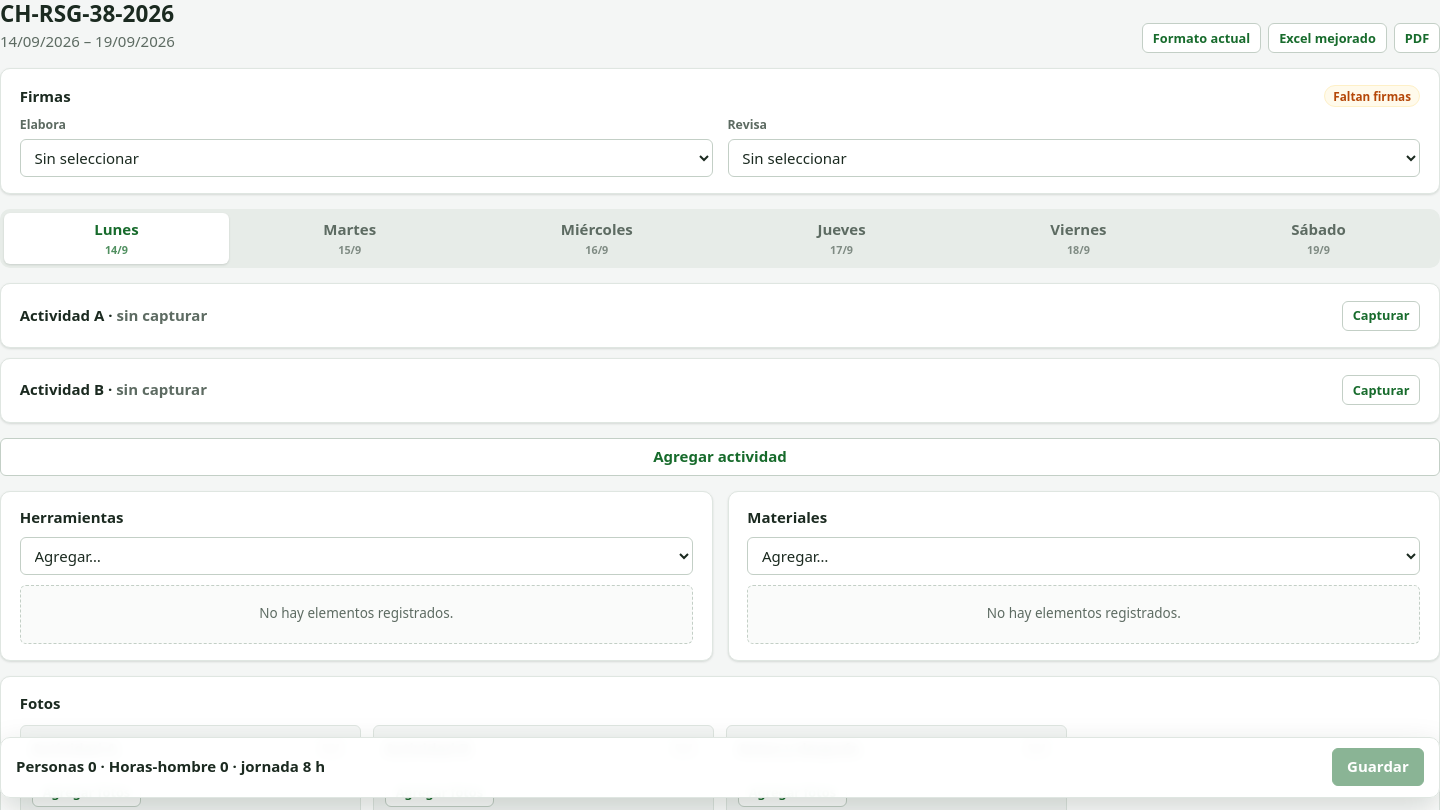
it: no permite quitar B y quita C cuando está vacía
expect the text "Actividad B · sin capturar" is shown: met, box [20, 379, 207, 401]
expect the button "Quitar" is not shown: met
Step 1. Click the button "Agregar actividad" → [720, 457], box [0, 438, 1439, 476]
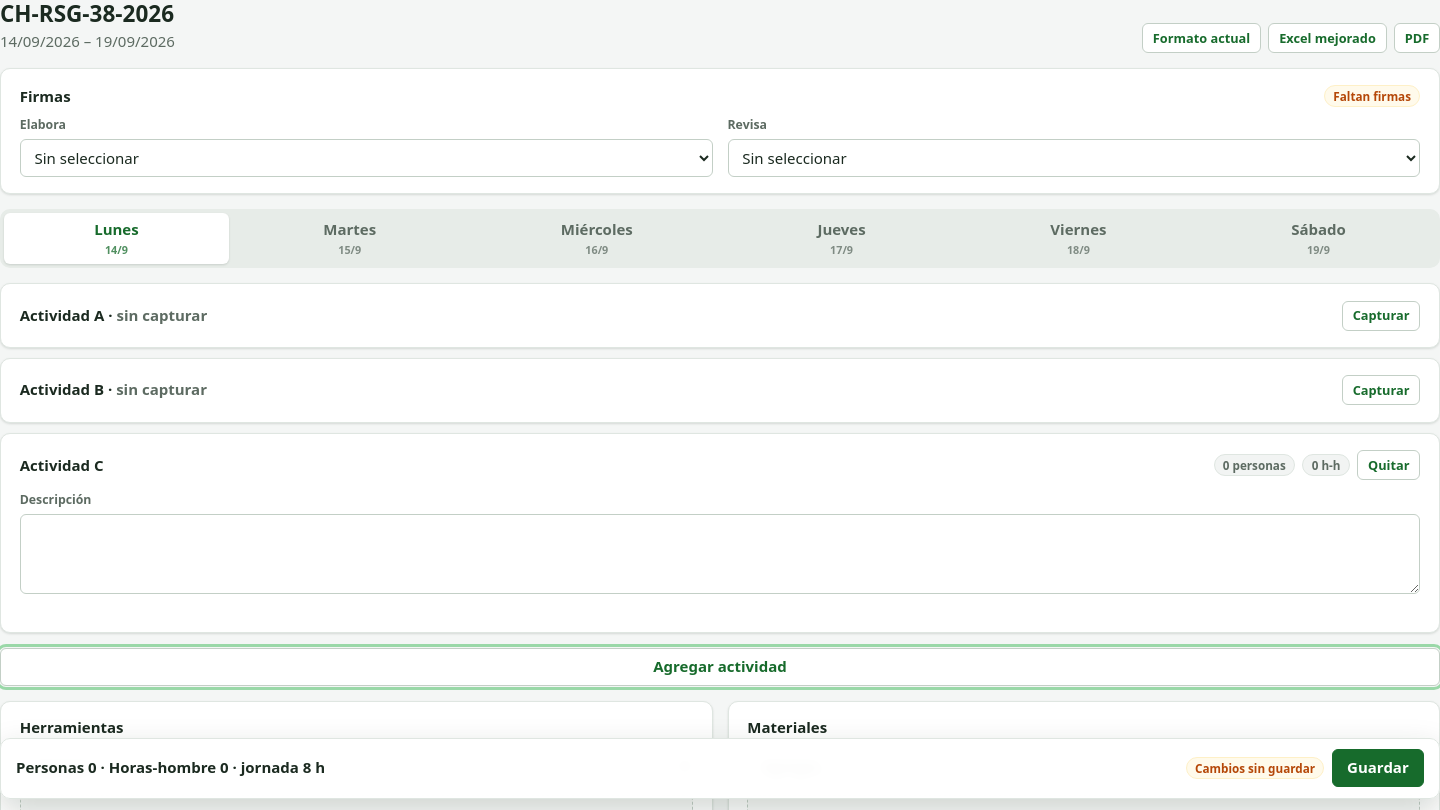
Step 2. Click the button "Quitar" → [1389, 465], box [1357, 450, 1420, 480]
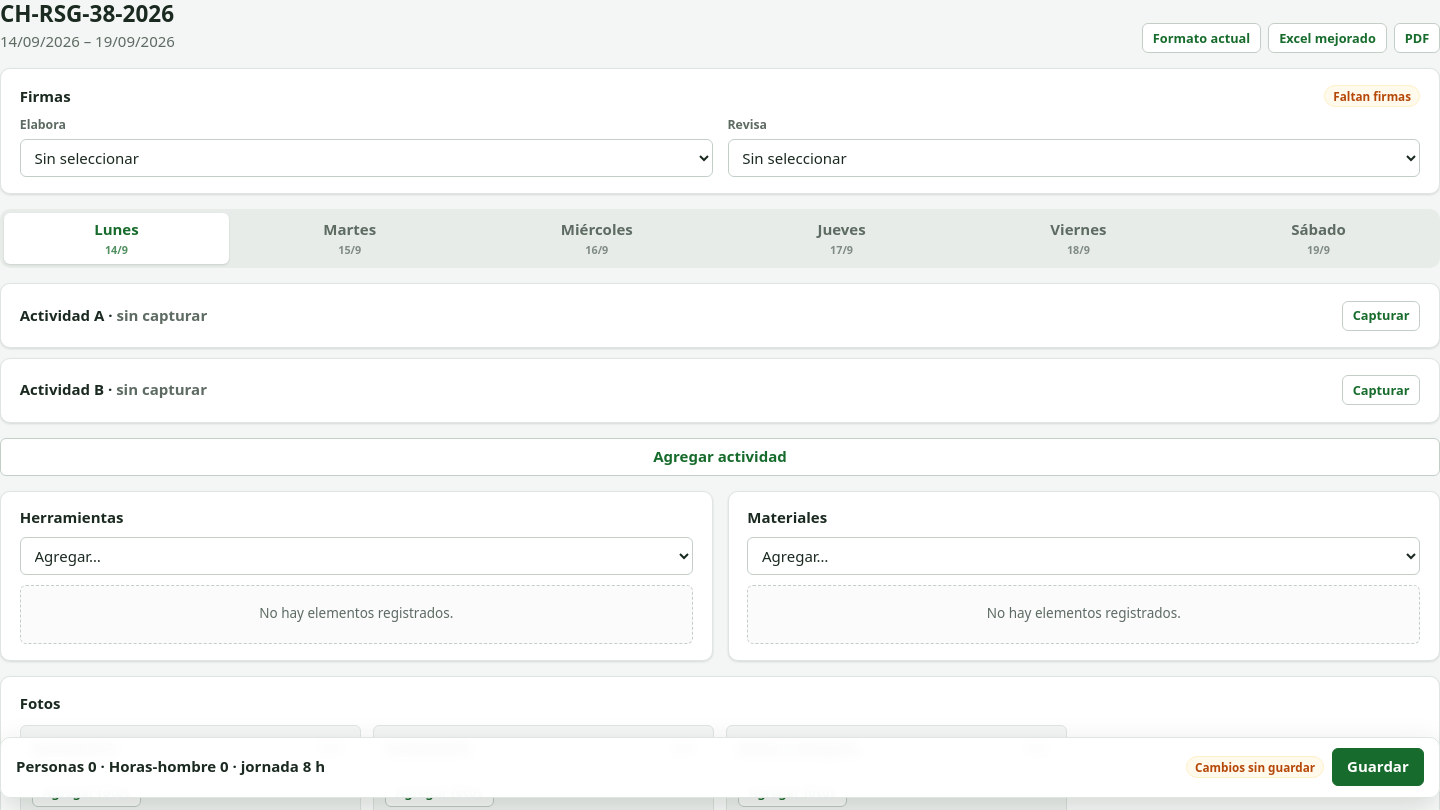
expect the heading "Actividad C" is gone: met
